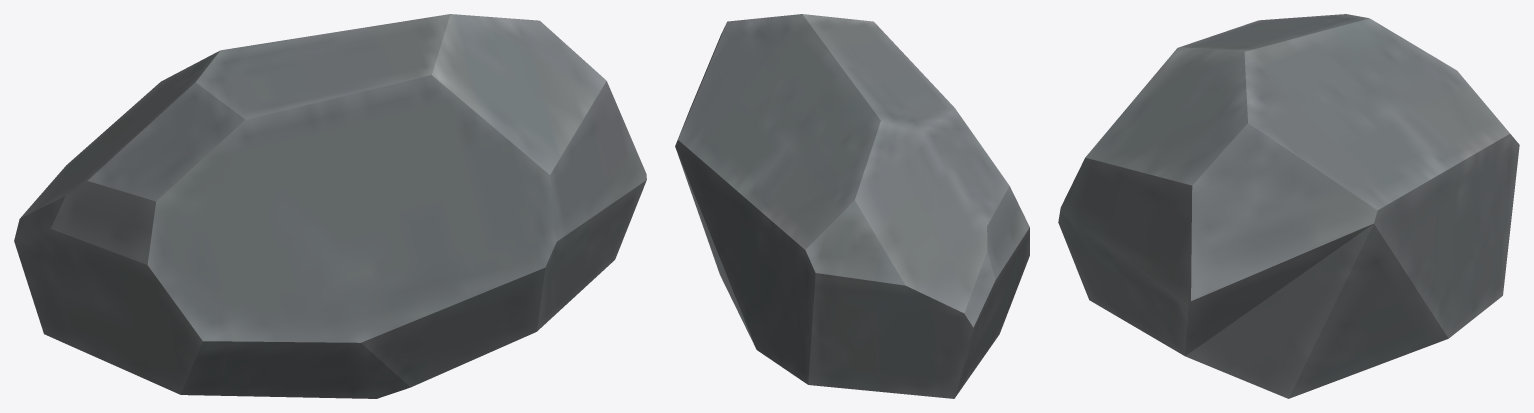
File: rock-9.glb
The picture shows the model from 3 angles, left to right: view 1: azimuth 30°, elevation 25°; view 2: azimuth 150°, elevation 25°; view 3: azimuth 270°, elevation 25°; orthographic projection. The views are drawn at different scales.
Visible parts, largest first — view 1: model; view 2: model; view 3: model.
Boxes of the visible parts, box(x1,y1,x2,y2) form: model: box(14, 14, 646, 398); model: box(675, 14, 1029, 398); model: box(1058, 14, 1519, 398).
Bounding box in the file's own units: 0.4661 × 0.2955 × 0.3981.
Materials: 1 (1 with a texture image).
